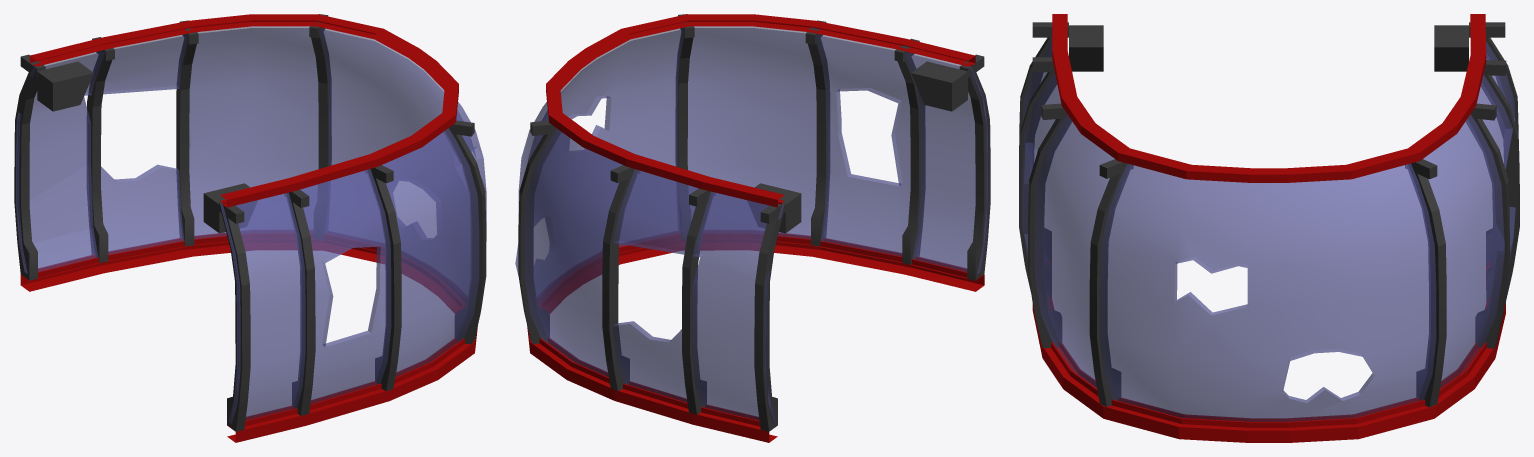
File: roundWindow.fbx
The picture shows the model from 3 angles, left to right: view 1: azimuth 30°, elevation 25°; view 2: azimuth 150°, elevation 25°; view 3: azimuth 270°, elevation 25°; orthographic projection. The views are drawn at different scales.
Parts seen in each view (by area): view 1: roundWindow; view 2: roundWindow; view 3: roundWindow.
Part boxes in pixels (x1,y1,x2,y2): roundWindow: (14, 14, 486, 442); roundWindow: (515, 14, 990, 442); roundWindow: (1019, 14, 1519, 442).
Bounding box in the file's own units: 11.8 × 8.25 × 14.43.
